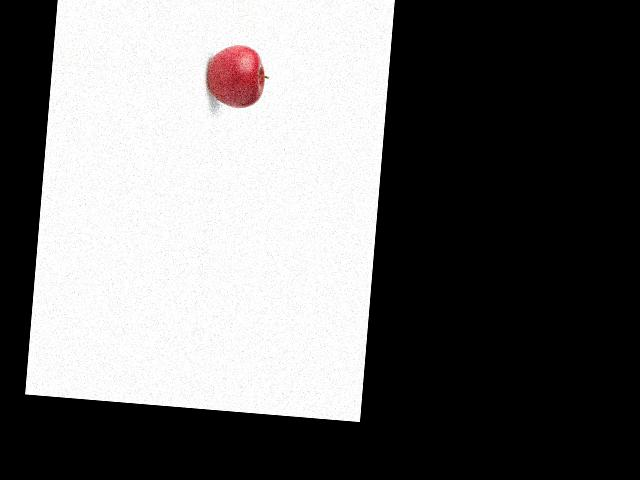apple: (203, 41, 272, 112)
